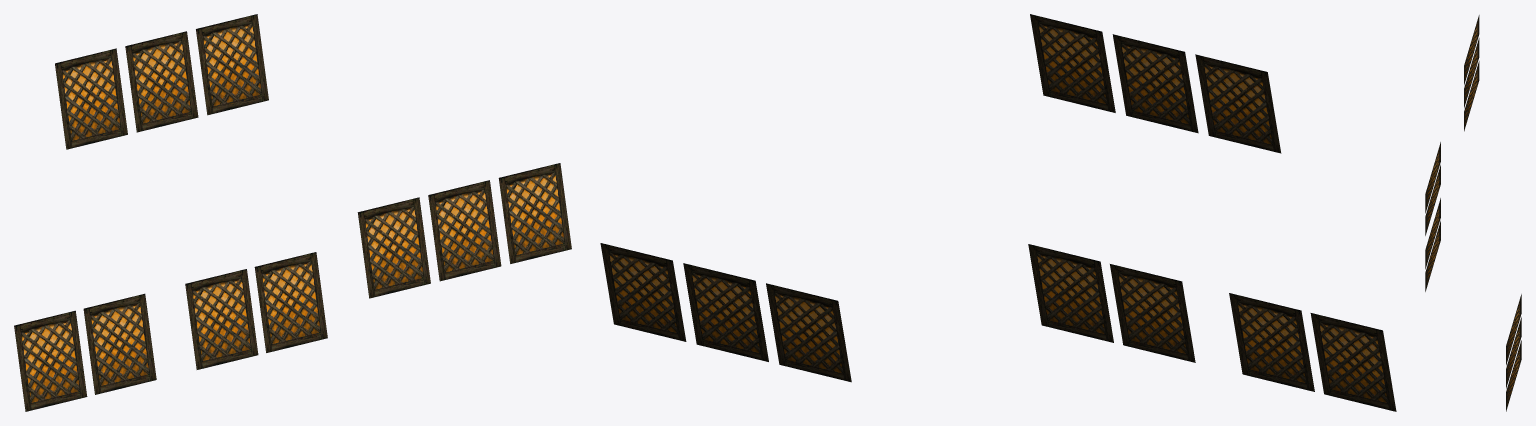
File: LAKETOWN_EXTERIOR_PS_LT_WINDOWS2359.fbx
3 renders of one model, left to right at view 1: azimuth 30°, elevation 25°; view 2: azimuth 150°, elevation 25°; view 3: azimuth 270°, elevation 25°, orthographic. The views are drawn at different scales.
Parts seen in each view (by area): view 1: LAKETOWN_EXTERIOR_PS_LT_WINDOWS2359; view 2: LAKETOWN_EXTERIOR_PS_LT_WINDOWS2359; view 3: LAKETOWN_EXTERIOR_PS_LT_WINDOWS2359.
Part boxes in pixels (x1,y1,x2,y2): LAKETOWN_EXTERIOR_PS_LT_WINDOWS2359: [14, 14, 571, 411]; LAKETOWN_EXTERIOR_PS_LT_WINDOWS2359: [600, 14, 1396, 411]; LAKETOWN_EXTERIOR_PS_LT_WINDOWS2359: [1425, 15, 1521, 411].
Bounding box in the file's own units: 103098 × 53828 × 21114.
Materials: 1 (1 with a texture image).
